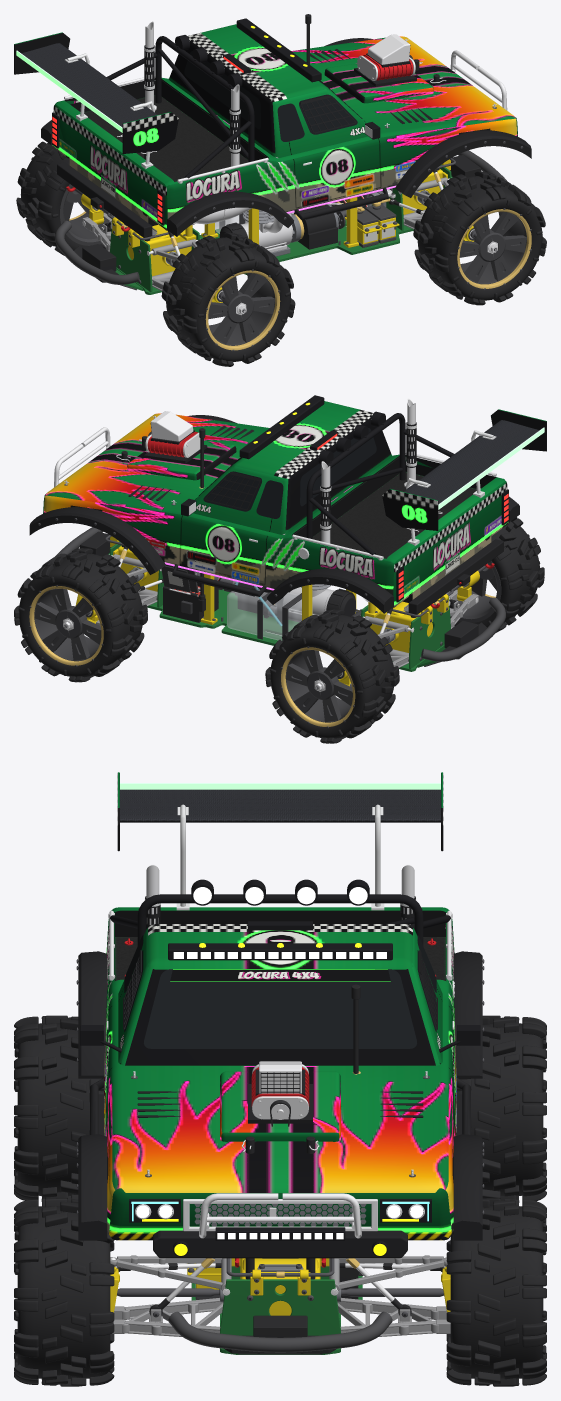
File: monster_truck_nitro_1.glb
3 views of the same model, one above another, from view 1: azimuth 30°, elevation 25°; view 2: azimuth 150°, elevation 25°; view 3: azimuth 270°, elevation 25° (orthographic). The views are drawn at different scales.
Visible parts, largest first — view 1: Carroceria_Casco, Carroceria_Cabina, Llanta_Del_Der, Llanta_Tras_Der, Llanta_Tras_Izq, Aleron, Carroceria_Ventanas, Rin_Tras_Der, Rin_Del_Der, Aleron_Aletas, Barra_Antivuelco, Guardafango_Del_Der (+31 smaller); view 2: Carroceria_Casco, Carroceria_Cabina, Llanta_Tras_Izq, Llanta_Del_Izq, Aleron, Llanta_Tras_Der, Carroceria_Ventanas, Rin_Del_Izq, Rin_Tras_Izq, Aleron_Aletas, Guardafango_Del_Izq, Chasis_Placa (+34 smaller); view 3: Carroceria_Casco, Carroceria_Ventanas, Carroceria_Cabina, Llanta_Del_Izq, Llanta_Del_Der, Llanta_Tras_Izq, Llanta_Tras_Der, Aleron, Defensas, Capo_Bulto, Mamparo_Placa_Del_Ext, Parachoques_Del.001 (+32 smaller).
Part boxes in pixels (box(x1,y1,x2,y2)): Carroceria_Casco: box(52, 36, 517, 229); Carroceria_Cabina: box(168, 24, 367, 158); Llanta_Del_Der: box(413, 171, 546, 305); Llanta_Tras_Der: box(161, 232, 295, 366); Llanta_Tras_Izq: box(16, 141, 110, 255); Aleron: box(21, 43, 157, 127); Carroceria_Ventanas: box(184, 51, 362, 141); Rin_Tras_Der: box(208, 273, 275, 345); Rin_Del_Der: box(459, 211, 526, 284); Aleron_Aletas: box(14, 32, 178, 153); Barra_Antivuelco: box(106, 36, 254, 178); Guardafango_Del_Der: box(395, 130, 531, 197); Carroceria_Casco: box(43, 413, 508, 606); Carroceria_Cabina: box(193, 401, 392, 534); Llanta_Tras_Izq: box(265, 609, 399, 743); Llanta_Del_Izq: box(14, 548, 147, 682); Aleron: box(403, 420, 539, 504); Llanta_Tras_Der: box(450, 517, 544, 632); Carroceria_Ventanas: box(199, 428, 376, 518); Rin_Del_Izq: box(34, 588, 101, 661); Rin_Tras_Izq: box(285, 650, 352, 722); Aleron_Aletas: box(382, 409, 546, 530); Guardafango_Del_Izq: box(29, 507, 165, 574); Chasis_Placa: box(108, 553, 445, 671); Carroceria_Casco: box(104, 907, 456, 1240); Carroceria_Ventanas: box(124, 935, 436, 1048); Carroceria_Cabina: box(118, 924, 442, 1065); Llanta_Del_Izq: box(446, 1198, 546, 1386); Llanta_Del_Der: box(14, 1198, 114, 1386); Llanta_Tras_Izq: box(457, 1015, 546, 1201); Llanta_Tras_Der: box(14, 1015, 103, 1200); Aleron: box(120, 789, 440, 822); Defensas: box(153, 1230, 407, 1258); Capo_Bulto: box(220, 1071, 340, 1141); Mamparo_Placa_Del_Ext: box(220, 1279, 340, 1335); Parachoques_Del.001: box(168, 1311, 392, 1352).
Size of the model in its own units: 0.6656 by 0.3664 by 0.4927.
Materials: 43 (4 with a texture image).
